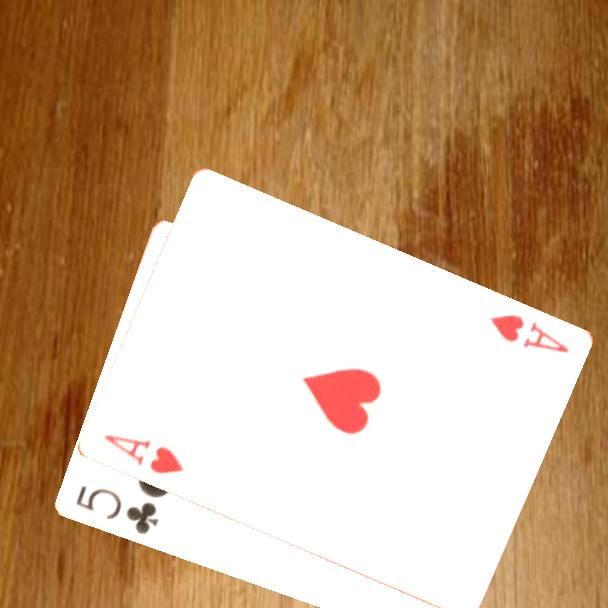c05: (73, 481, 163, 537)
h01: (100, 431, 187, 478), (486, 311, 572, 356)
